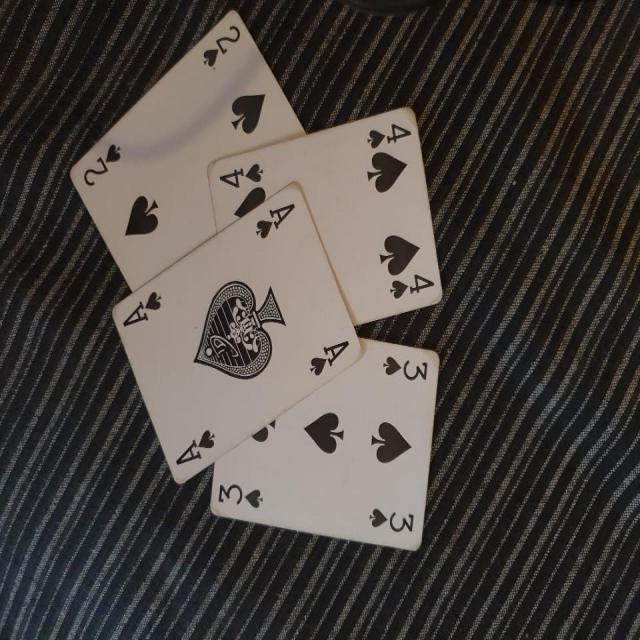2 of spades: (54, 0, 288, 301)
3 of spades: (209, 333, 449, 562)
4 of spades: (200, 101, 458, 326)
ace of spades: (110, 184, 360, 491)
